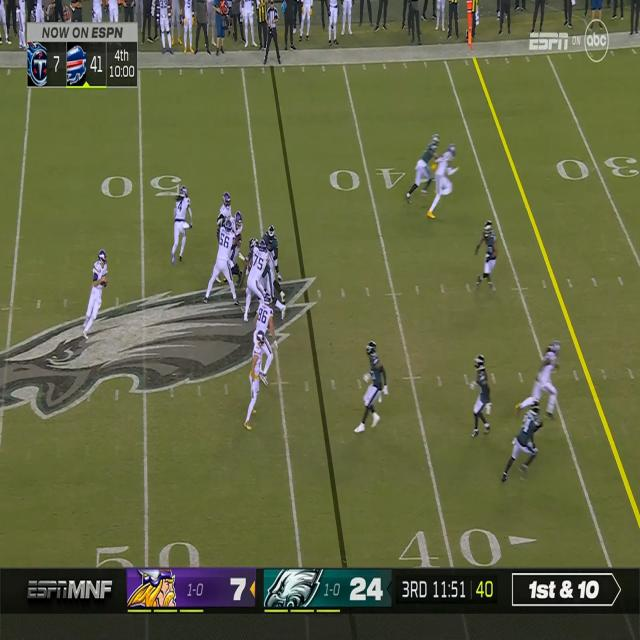football: (103, 277, 108, 288)
players: (516, 341, 562, 418), (502, 400, 543, 484), (354, 343, 388, 433), (204, 219, 238, 306), (405, 135, 442, 204), (426, 144, 459, 221), (243, 329, 266, 430), (83, 251, 108, 340), (255, 293, 278, 387), (465, 355, 491, 437), (245, 239, 269, 324), (472, 218, 497, 294), (170, 184, 193, 263), (229, 212, 244, 278), (264, 226, 281, 284)
